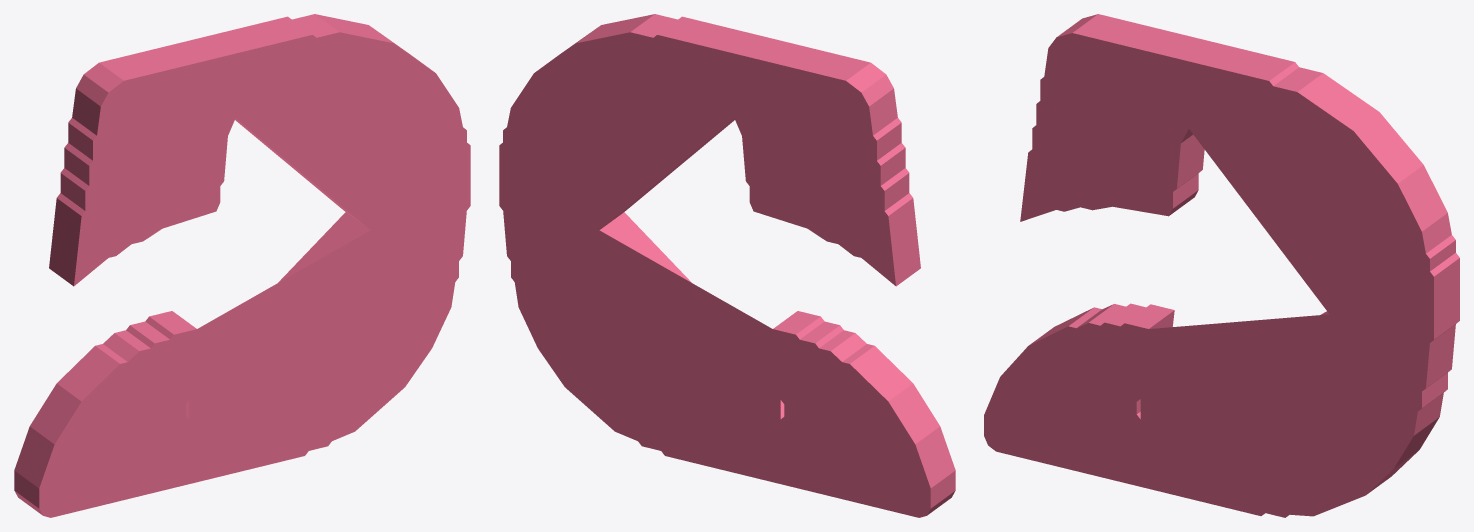
The model's file is frame_2147225957_3d_E52B50.glb.
The picture shows the model from 3 angles, left to right: view 1: azimuth 30°, elevation 25°; view 2: azimuth 150°, elevation 25°; view 3: azimuth 330°, elevation 25°; orthographic projection. The views are drawn at different scales.
Visible parts, largest first — view 1: world; view 2: world; view 3: world.
Boxes of the visible parts, left/top/right/bottom form: world: left=14, top=14, right=470, bottom=517; world: left=499, top=14, right=955, bottom=517; world: left=984, top=14, right=1459, bottom=517.
Bounding box in the file's own units: 100 × 92.86 × 10.
